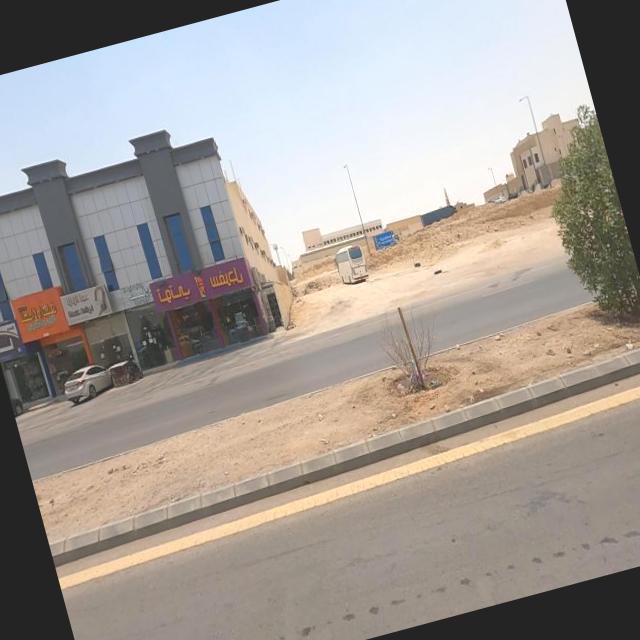debris: (413, 238, 466, 310), (393, 236, 440, 290)
